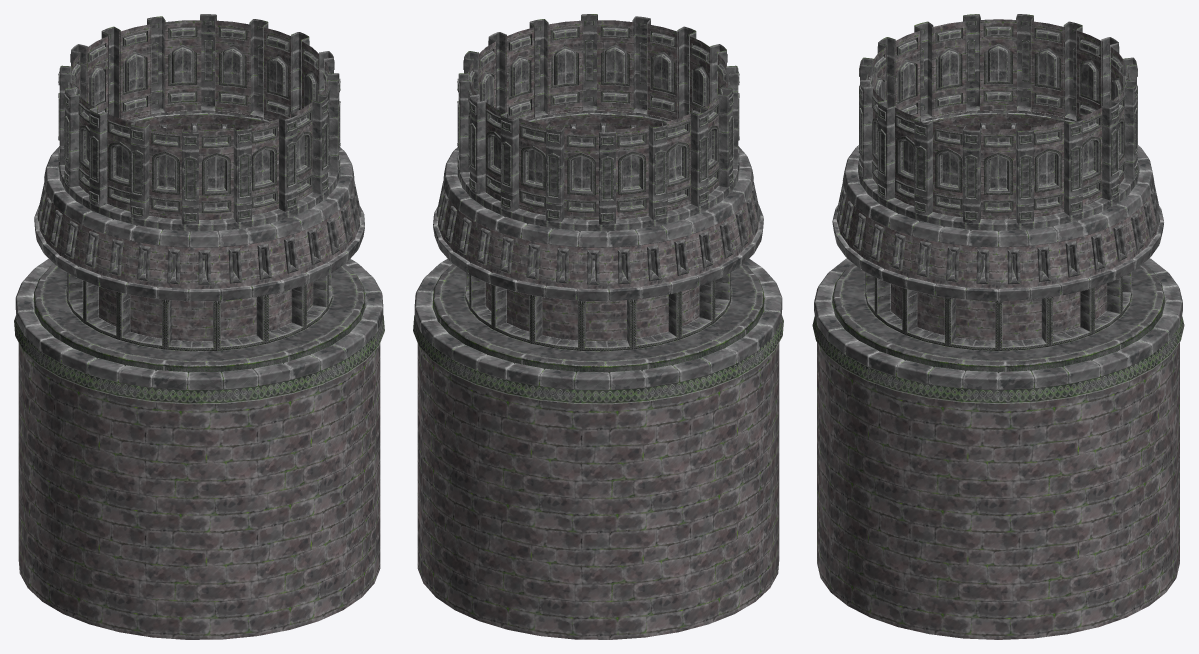
File: tower_bottom.fbx
The picture shows the model from 3 angles, left to right: view 1: azimuth 30°, elevation 25°; view 2: azimuth 150°, elevation 25°; view 3: azimuth 270°, elevation 25°; orthographic projection.
Visible parts, largest first — view 1: tower_bottom; view 2: tower_bottom; view 3: tower_bottom.
Part boxes in pixels (x1,y1,x2,y2): tower_bottom: (14, 14, 384, 639); tower_bottom: (413, 14, 783, 639); tower_bottom: (812, 14, 1184, 639).
Bounding box in the file's own units: 120 × 175 × 120.
